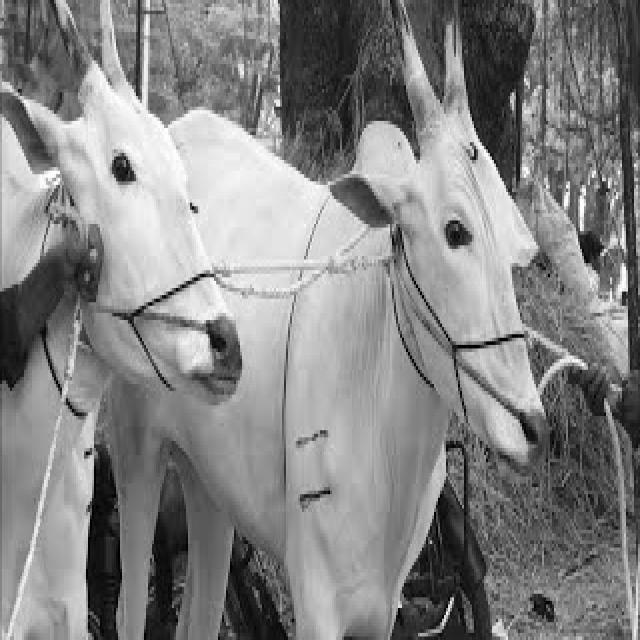Cow: (278, 81, 570, 491), (7, 24, 254, 450)
